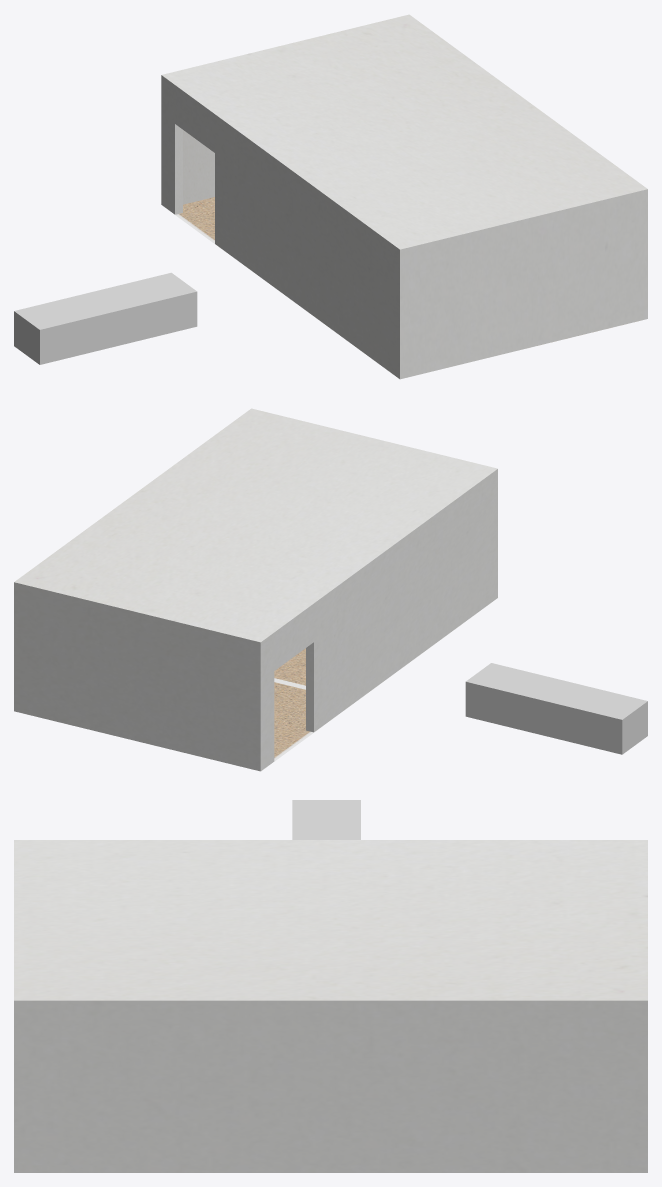
The model's file is lap-room-empty-UV-2.FBX.
3 renders of one model, top to bottom at view 1: azimuth 30°, elevation 25°; view 2: azimuth 150°, elevation 25°; view 3: azimuth 270°, elevation 25°, orthographic. The views are drawn at different scales.
Visible parts, largest first — view 1: Box001, Box002; view 2: Box001, Box002; view 3: Box001, Box002.
Boxes of the visible parts, x1=… form: Box001: x1=161, y1=14, x2=647, y2=379; Box002: x1=14, y1=272, x2=197, y2=364; Box001: x1=14, y1=408, x2=497, y2=771; Box002: x1=465, y1=663, x2=647, y2=754; Box001: x1=14, y1=840, x2=647, y2=1172; Box002: x1=292, y1=800, x2=360, y2=839.
Bounding box in the file's own units: 480 × 118 × 394.
